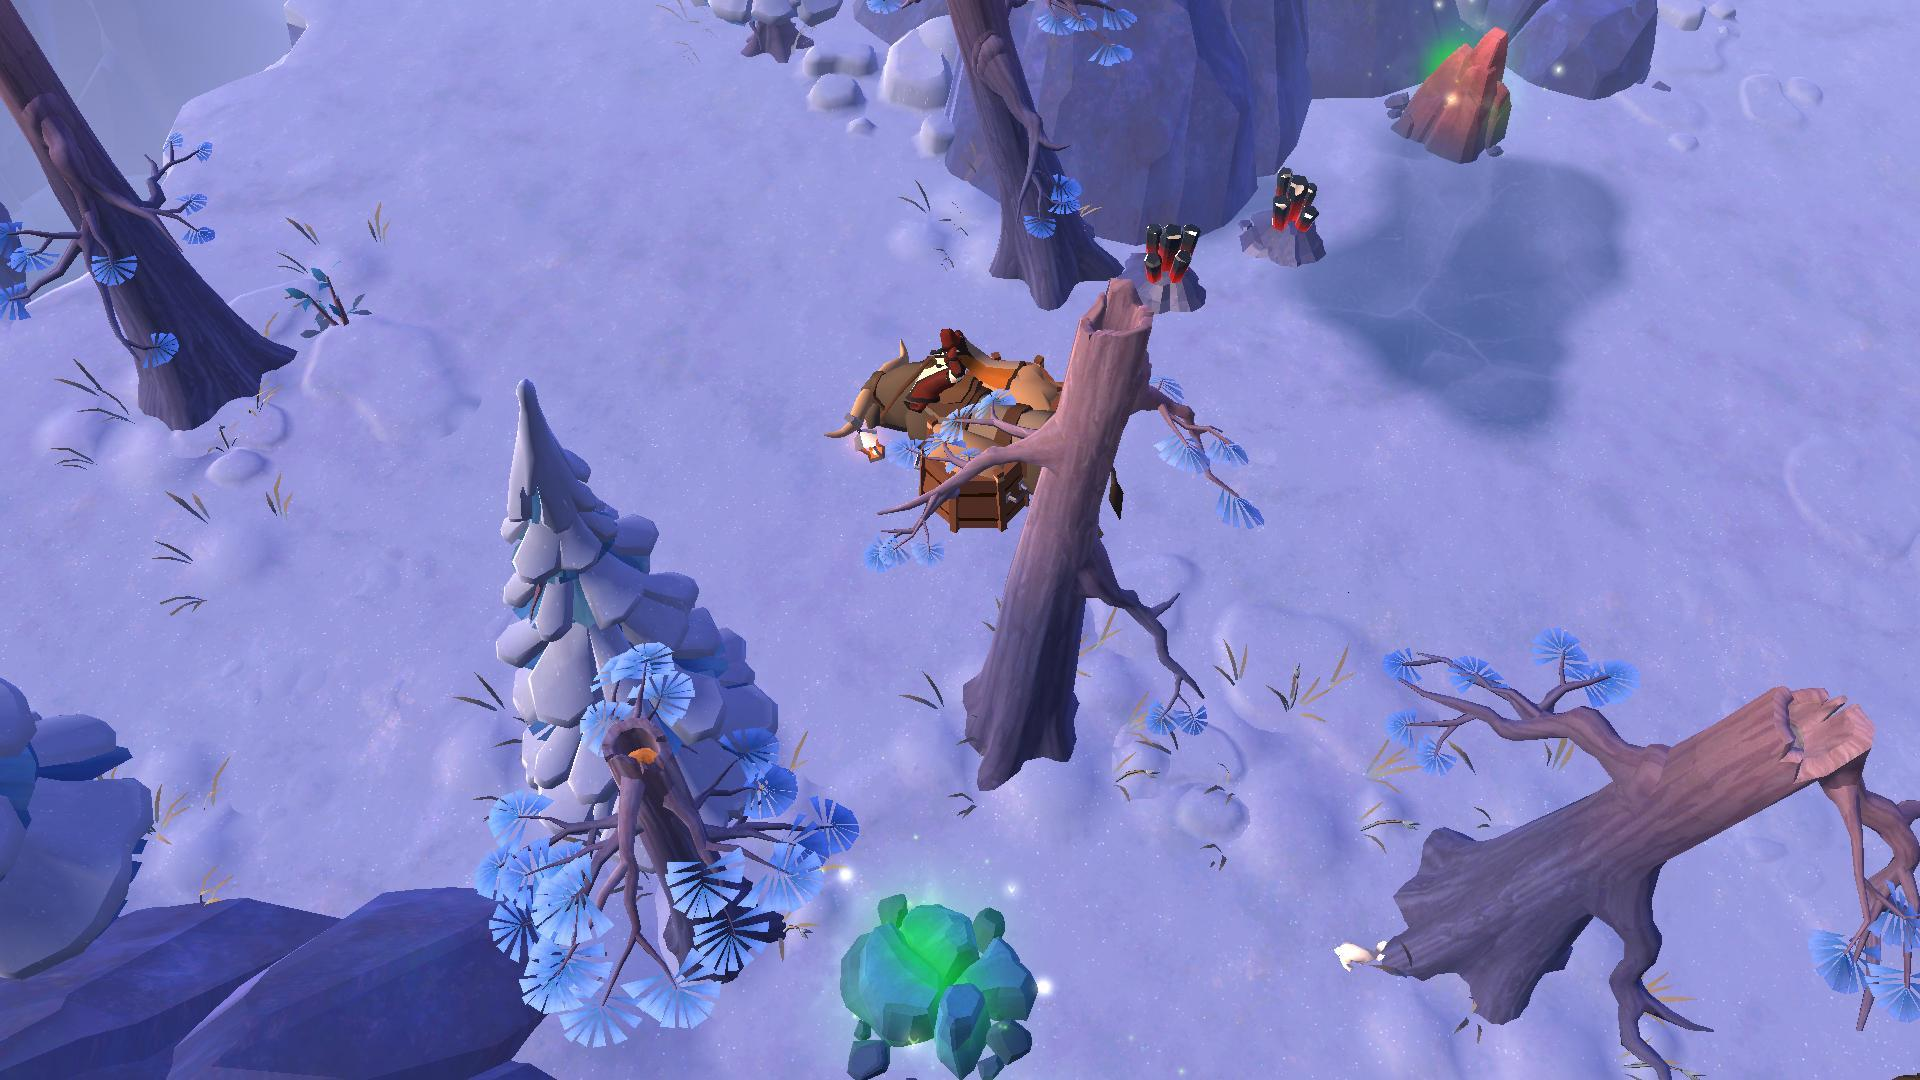ore_t5: (1259, 158, 1323, 233), (1138, 222, 1204, 284)
rock_t4: (827, 889, 1042, 1072)
rock_t5: (1379, 17, 1515, 156)
